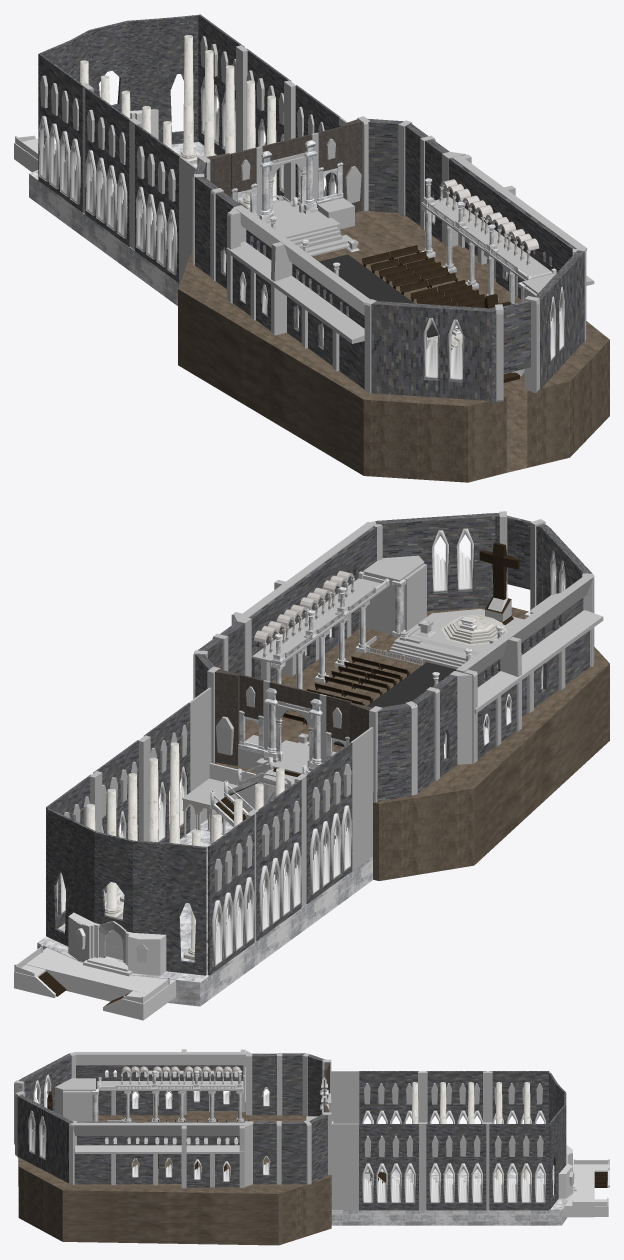
Rendered from Church-Final.fbx.
The picture shows the model from 3 angles, top to bottom: view 1: azimuth 30°, elevation 25°; view 2: azimuth 150°, elevation 25°; view 3: azimuth 270°, elevation 25°; orthographic projection. The views are drawn at different scales.
Visible parts, largest first — view 1: Boden-groß, RückwandR, Boden.002, RückwandL, WandL-09, EingangWandL02, WandR-11, WandR01, WandL-01, WandR02, WandR03, EingangWandL01 (+58 smaller); view 2: Boden-groß, Boden.002, RückwandL, EingangWandR02, WandL-09, Steinboden, WandR-01, EingangWandR01, WandR01, WandR03, EingangWandL02, WandR02 (+54 smaller); view 3: Boden-groß, Boden.002, WandL03.002, WandL03.001, WandL03, RückwandL, WandL04, WandL-10, WandR-10, WandR03, WandR01, WandR02 (+59 smaller).
Boxes of the visible parts, x1,y1,x2,y2 form: Boden-groß: (178, 211, 609, 482); RückwandR: (371, 301, 495, 401); Boden.002: (29, 141, 277, 305); RückwandL: (536, 250, 584, 390); WandL-09: (448, 158, 575, 272); EingangWandL02: (158, 15, 198, 144); WandR-11: (226, 241, 364, 343); WandR01: (38, 53, 83, 212); WandL-01: (367, 118, 403, 212); WandR02: (85, 88, 129, 246); WandR03: (135, 124, 180, 282); EingangWandL01: (127, 18, 158, 110); Boden-groß: (211, 607, 609, 880); Boden.002: (37, 819, 372, 1006); RückwandL: (375, 513, 499, 611); EingangWandR02: (166, 842, 206, 975); WandL-09: (249, 526, 376, 656); Steinboden: (26, 947, 175, 1011); WandR-01: (373, 703, 411, 801); EingangWandR01: (133, 840, 166, 934); WandR01: (207, 814, 254, 975); WandR03: (306, 742, 352, 903); EingangWandL02: (46, 808, 75, 946); WandR02: (256, 779, 301, 940); Boden-groß: (18, 1102, 331, 1245); Boden.002: (331, 1165, 574, 1225); WandL03.002: (489, 1124, 549, 1210); WandL03.001: (426, 1124, 486, 1210); WandL03: (359, 1124, 418, 1210); RückwandL: (17, 1095, 73, 1183); WandL04: (331, 1123, 358, 1209); WandL-10: (73, 1122, 244, 1135); WandR-10: (74, 1052, 245, 1066); WandR03: (359, 1071, 418, 1123); WandR01: (490, 1071, 549, 1123); WandR02: (426, 1071, 485, 1123).
Size of the model in its own units: 15742 by 8920 by 42547.
